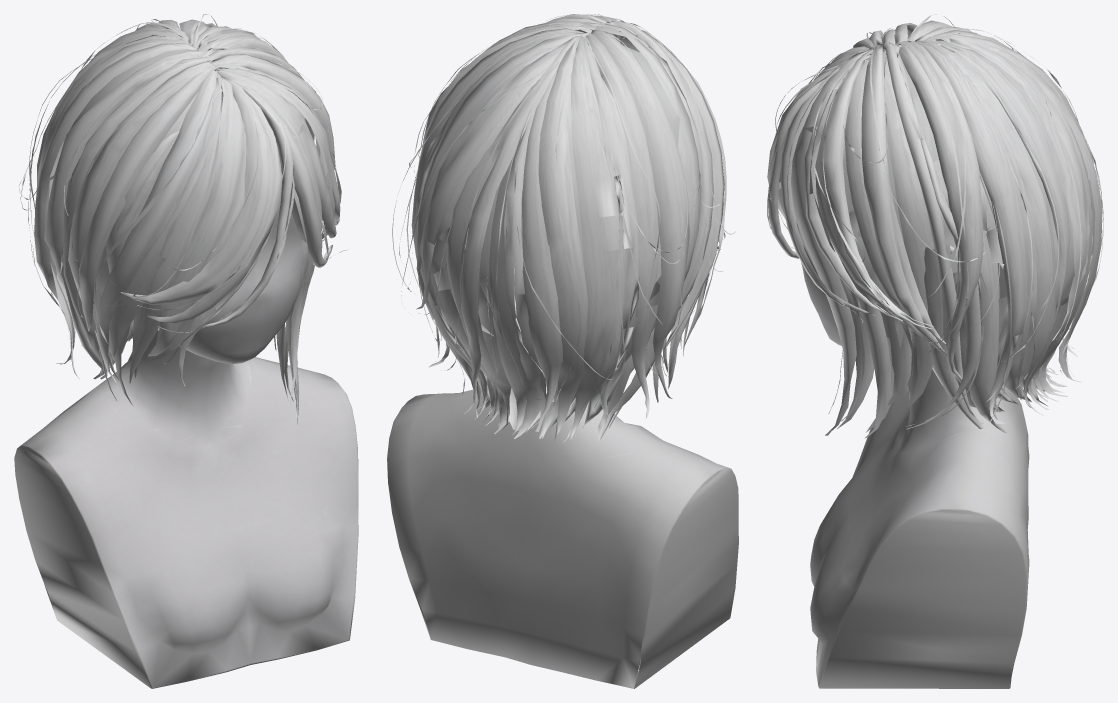
Rendered from hair-0.glb.
The picture shows the model from 3 angles, left to right: view 1: azimuth 30°, elevation 25°; view 2: azimuth 150°, elevation 25°; view 3: azimuth 270°, elevation 25°; orthographic projection. The views are drawn at different scales.
Size of the model in its own units: 0.4985 by 0.9517 by 0.4824.
1 material, 1 textured.
